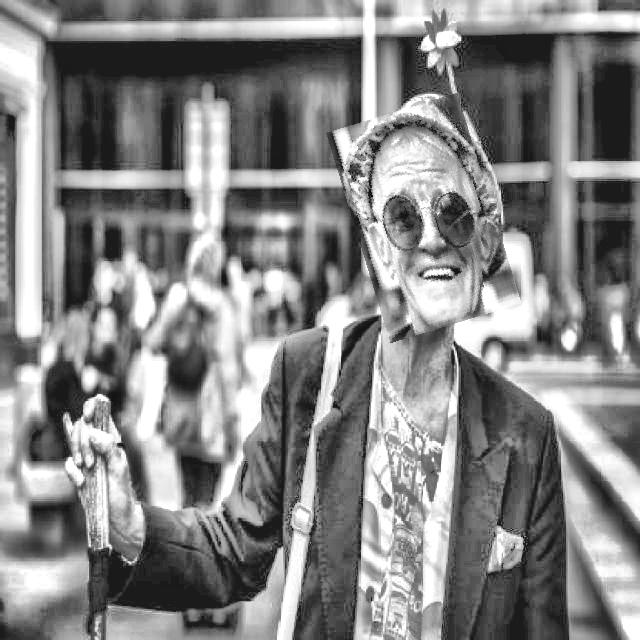happy: (340, 100, 507, 336)
